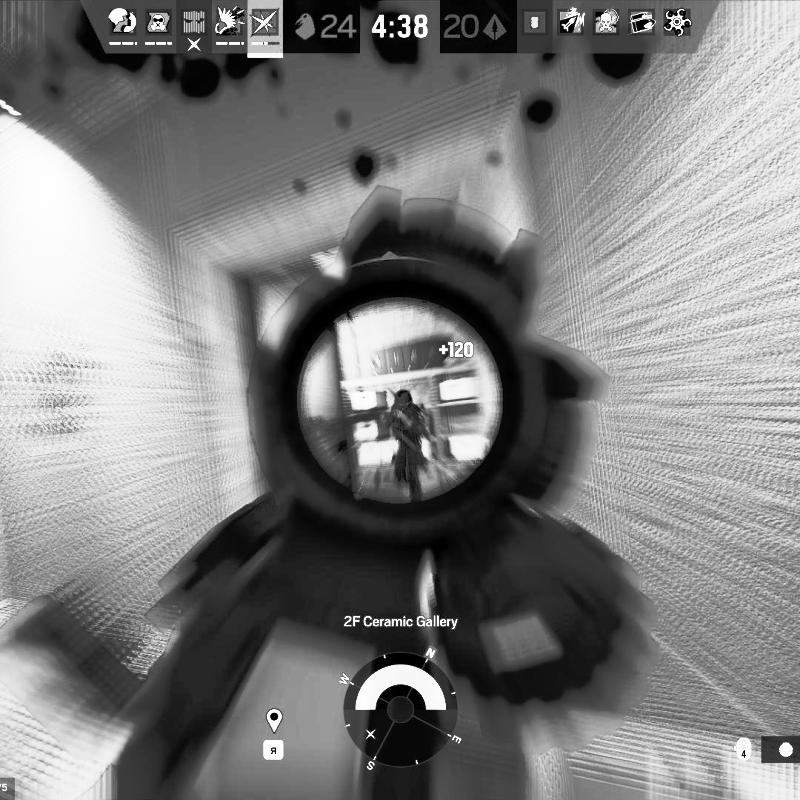Character: (382, 388, 438, 501)
Head: (394, 388, 412, 410)
